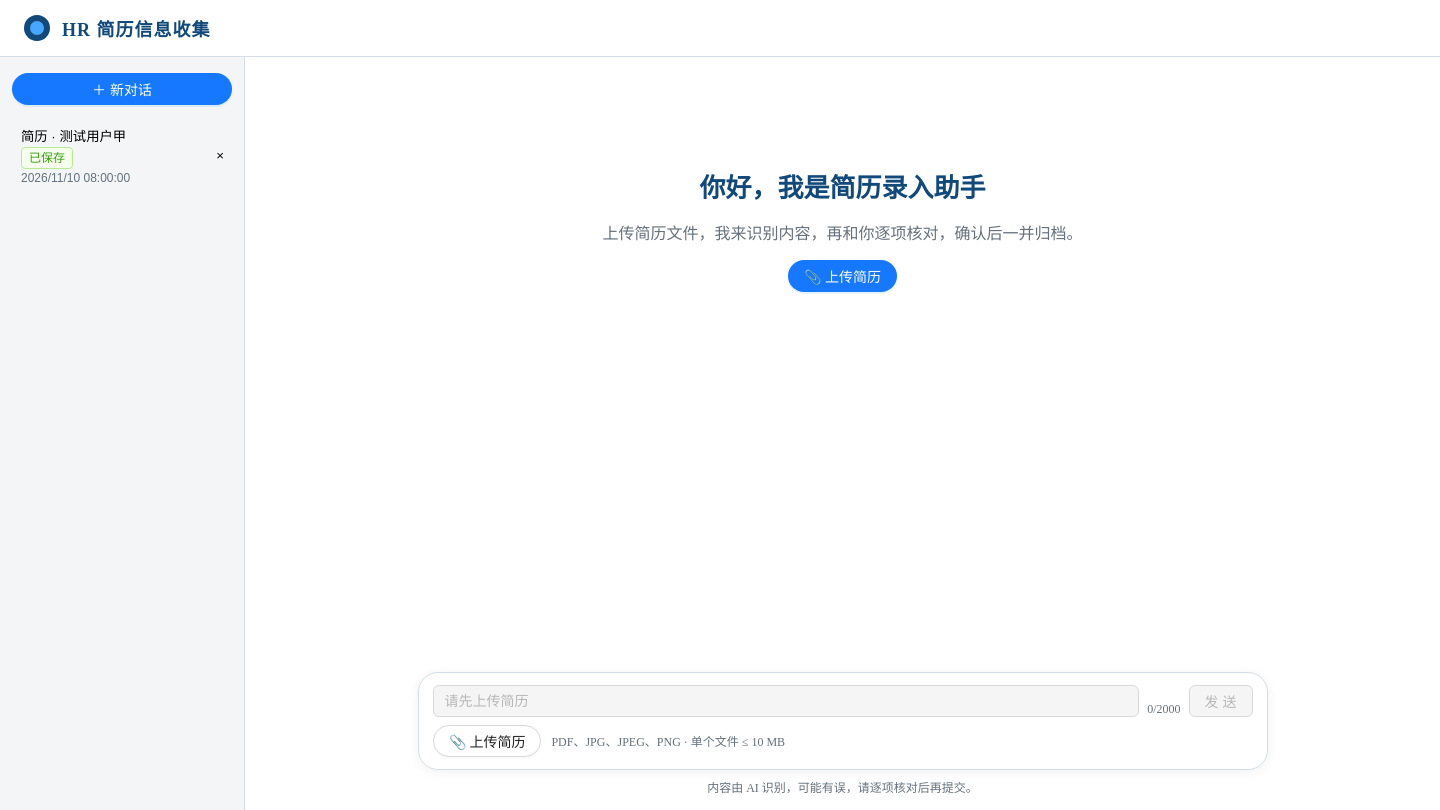
Scenario: new chat clears the view only (TD-12 v2) › "上传下一份" on a saved session goes back to the empty view without a dialog
Click the button "简历 · 测试用户甲 已保存 2026/11/10 08:00:00" at [108, 156], box left=12, top=117, right=204, bottom=194
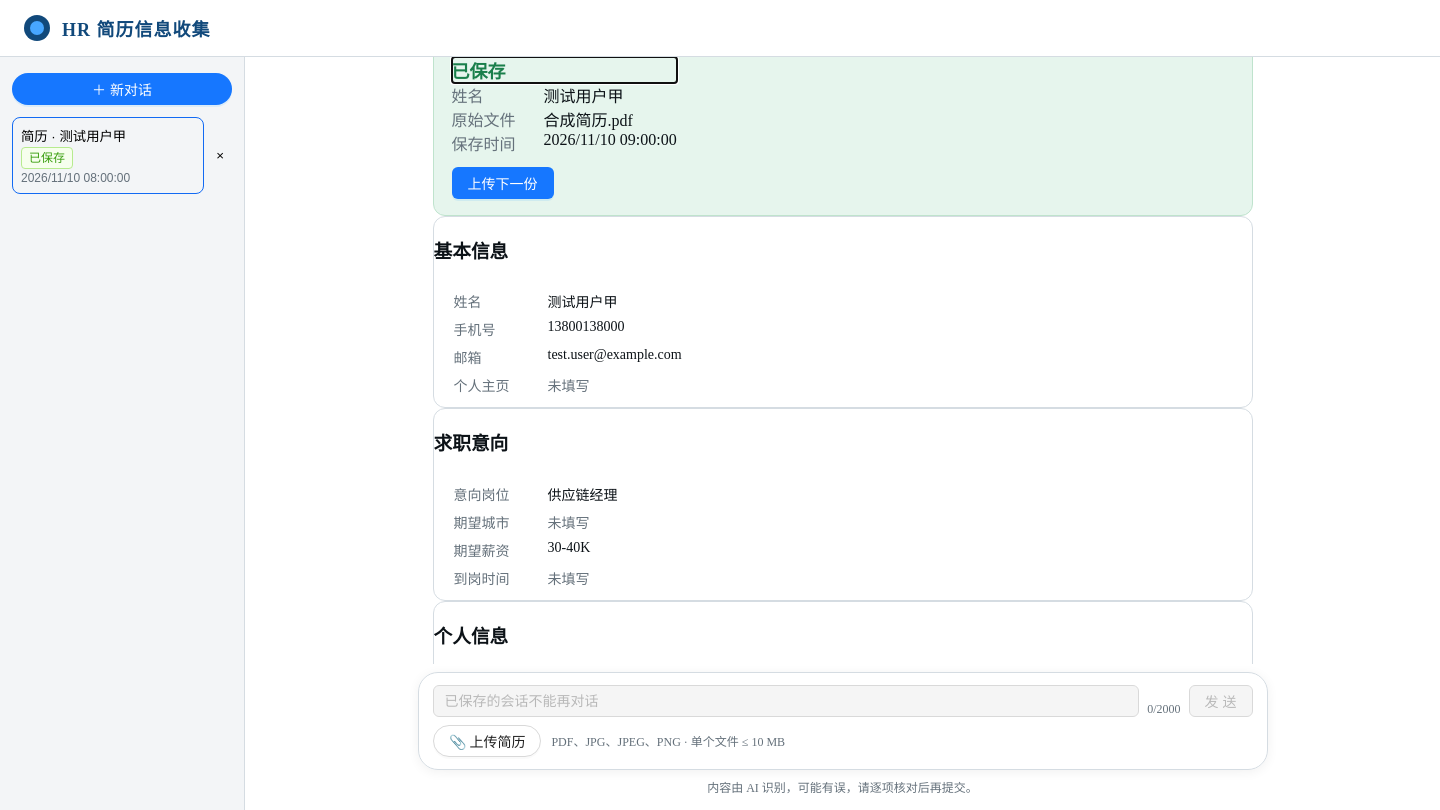
Click the button "上传下一份" at [502, 183], box left=452, top=167, right=554, bottom=199
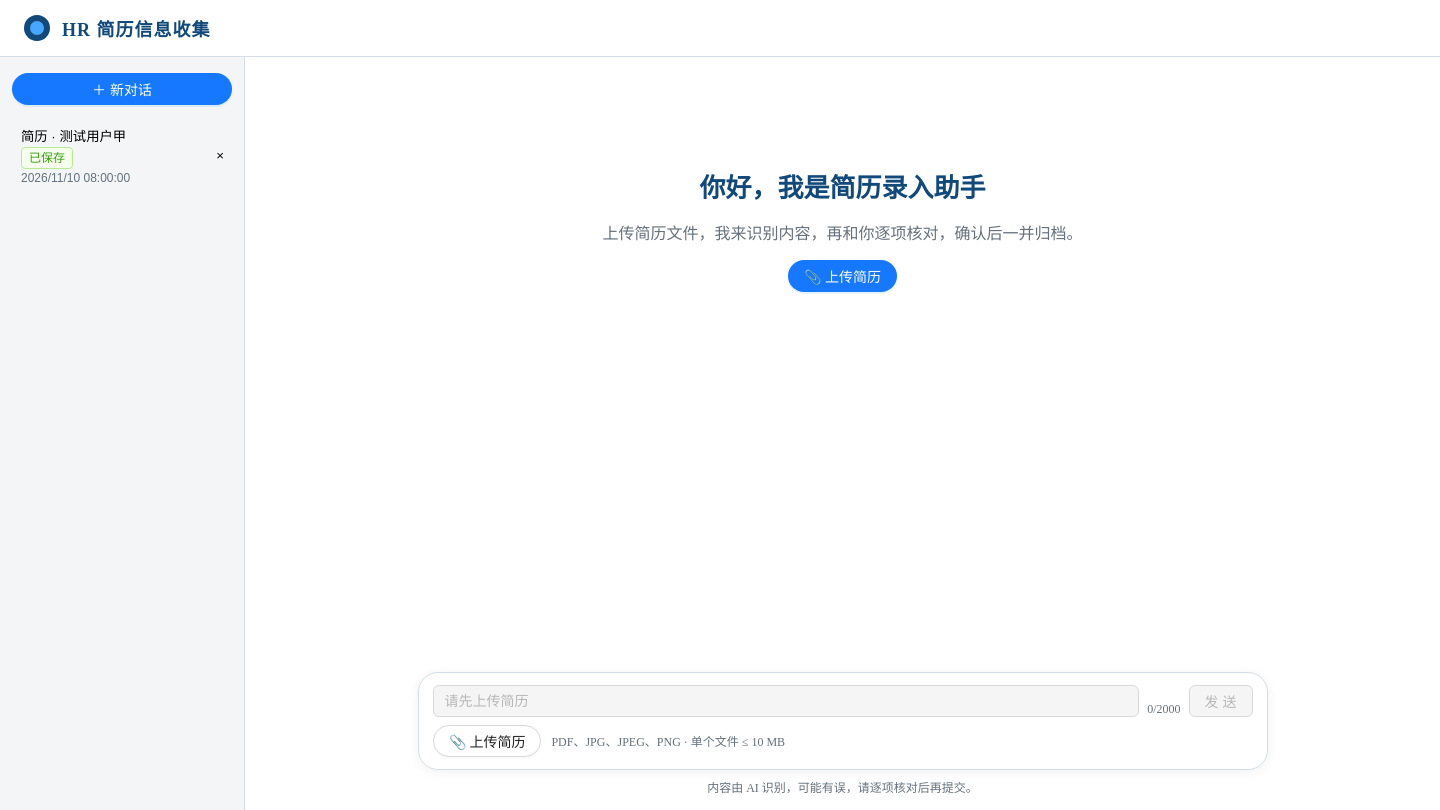
Now the text "上传简历文件，我来识别内容，再和你逐项核对，确认后一并归档。" is shown, box left=602, top=225, right=1082, bottom=242
